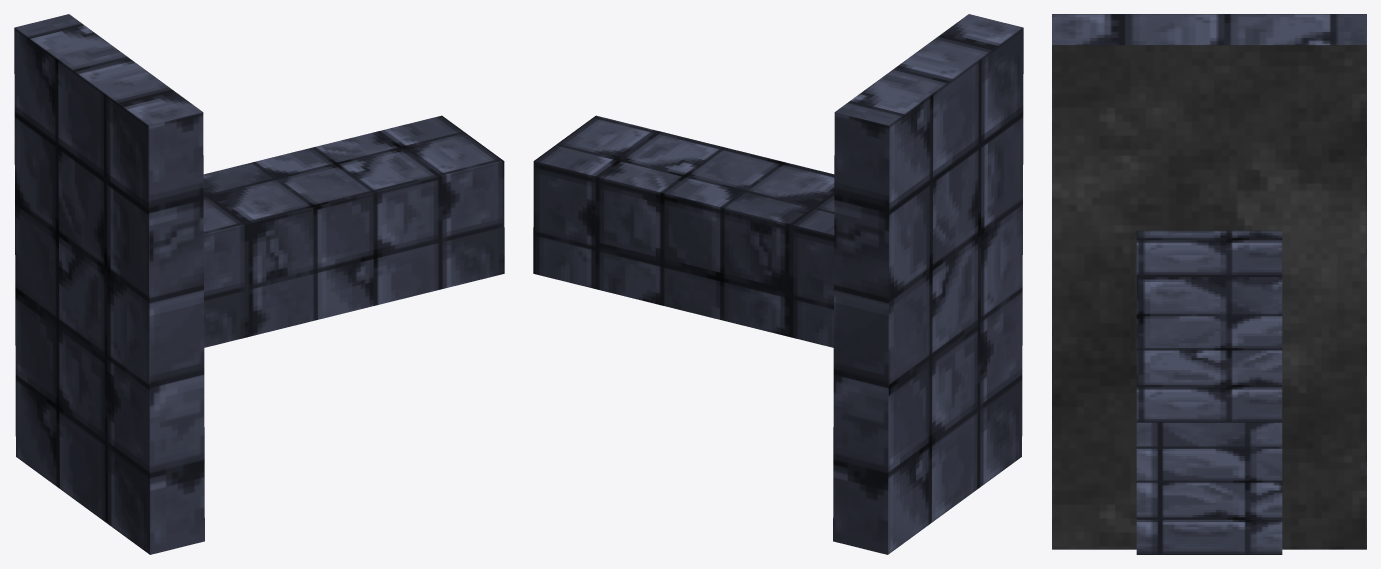
Rendered from T Platform.fbx.
3 views of the same model, side by side, from view 1: azimuth 30°, elevation 25°; view 2: azimuth 150°, elevation 25°; view 3: azimuth 270°, elevation 25° (orthographic). The views are drawn at different scales.
Parts seen in each view (by area): view 1: Platform 1; view 2: Platform 1; view 3: Platform 1.
Boxes of the visible parts, x1=… form: Platform 1: x1=14, y1=14, x2=504, y2=554; Platform 1: x1=533, y1=14, x2=1023, y2=554; Platform 1: x1=1052, y1=14, x2=1366, y2=554.
Bounding box in the file's own units: 242 × 254 × 144.
Materials: 1 (1 with a texture image).
